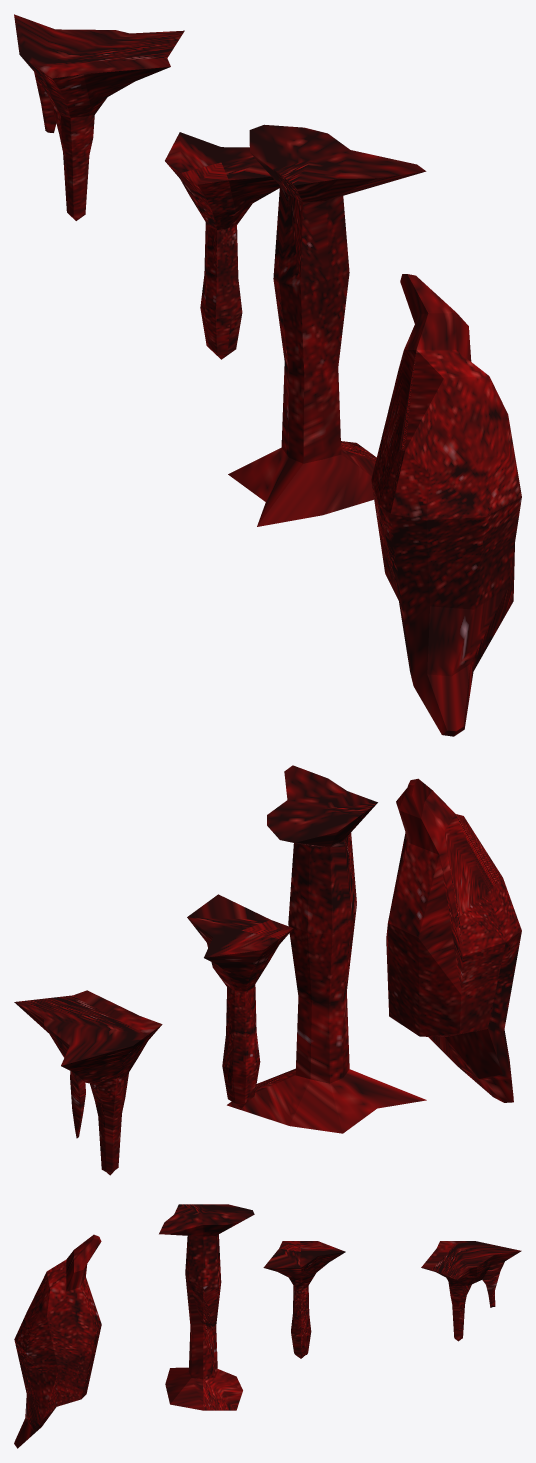
File: chunky_meats.fbx
3 renders of one model, top to bottom at view 1: azimuth 30°, elevation 25°; view 2: azimuth 150°, elevation 25°; view 3: azimuth 270°, elevation 25°, orthographic. The views are drawn at different scales.
Visible parts, largest first — view 1: Cube.004, Cube.005, Cube.007, Cube.006; view 2: Cube.004, Cube.005, Cube.007, Cube.006; view 3: Cube.004, Cube.005, Cube.007, Cube.006.
Boxes of the visible parts, <box> form: Cube.004: <box>371,274,521,736</box>; Cube.005: <box>228,124,426,526</box>; Cube.007: <box>14,14,184,220</box>; Cube.006: <box>165,132,279,359</box>; Cube.004: <box>386,778,521,1102</box>; Cube.005: <box>227,765,426,1133</box>; Cube.007: <box>14,990,162,1175</box>; Cube.006: <box>187,894,293,1108</box>; Cube.004: <box>14,1234,101,1448</box>; Cube.005: <box>159,1204,254,1410</box>; Cube.007: <box>421,1241,521,1341</box>; Cube.006: <box>263,1241,345,1358</box>.
Size of the model in its own units: 494 by 1088 by 2079.
Materials: 4 (4 with a texture image).
